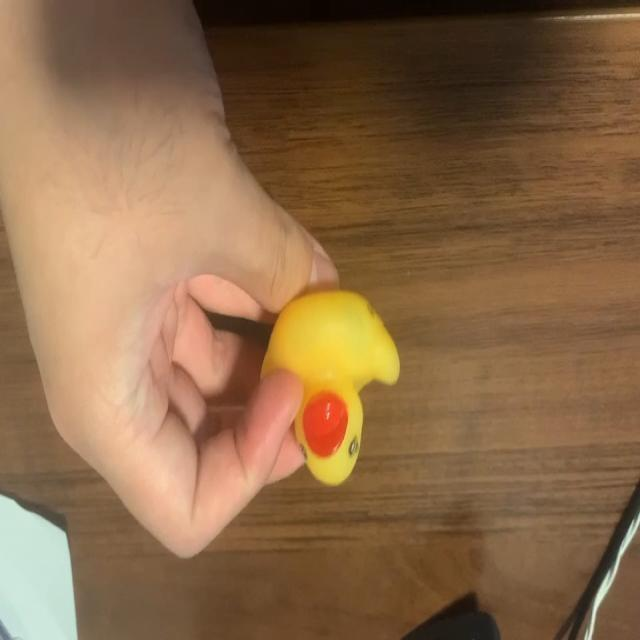rubber-duck: (261, 290, 397, 483)
